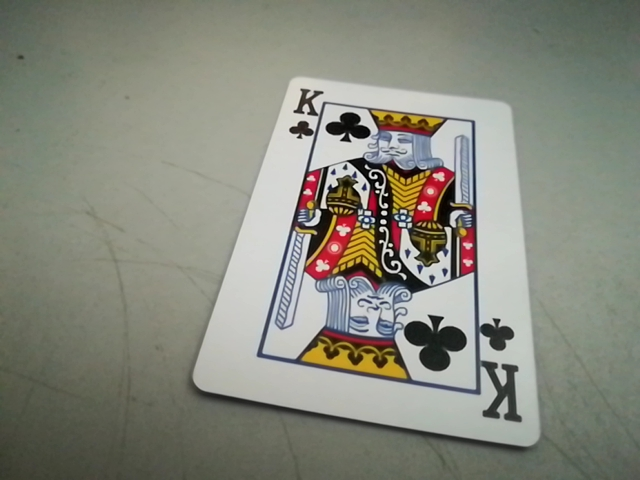mh k: (480, 316, 525, 430), (284, 83, 323, 141)
